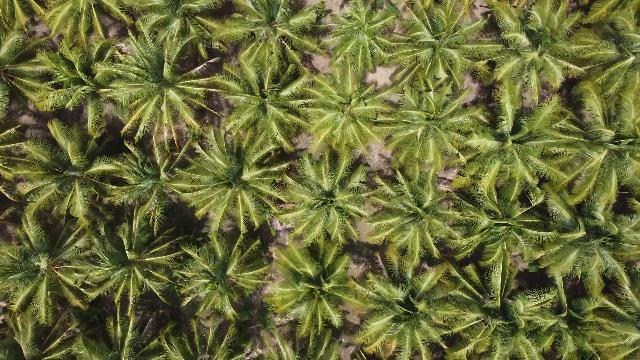trees: (100, 23, 227, 152), (424, 250, 561, 360), (443, 164, 565, 281), (3, 212, 107, 347), (5, 122, 133, 231), (5, 8, 125, 122), (473, 5, 603, 106), (67, 210, 192, 315), (173, 127, 289, 240), (206, 46, 317, 156), (266, 237, 367, 352), (365, 166, 467, 272), (170, 229, 274, 331), (356, 263, 461, 360), (274, 152, 372, 255), (382, 83, 481, 184), (299, 68, 396, 163), (391, 5, 481, 98), (548, 145, 640, 234), (207, 3, 326, 69), (126, 4, 230, 73), (318, 3, 402, 72)
